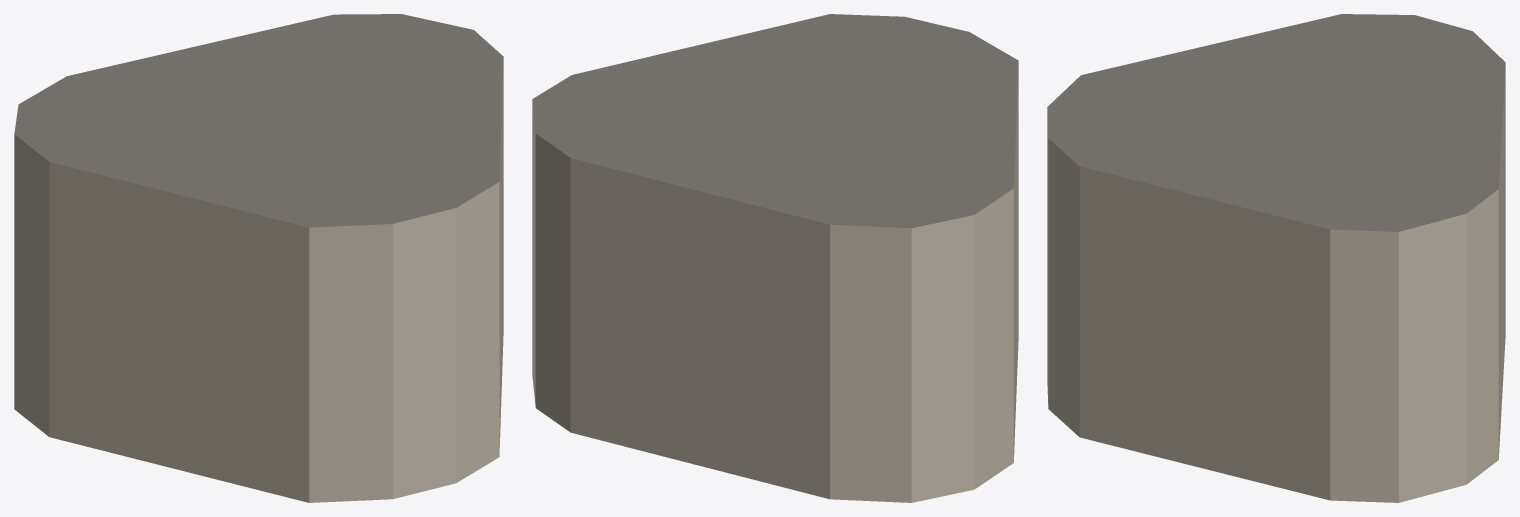
3 views of the same model, side by side, from view 1: azimuth 30°, elevation 25°; view 2: azimuth 150°, elevation 25°; view 3: azimuth 270°, elevation 25° (orthographic).
Visible parts, largest first — view 1: HP-w299010052; view 2: HP-w299010052; view 3: HP-w299010052.
Boxes of the visible parts, x1,y1,x2,y2 form: HP-w299010052: (14,14,503,502); HP-w299010052: (532,14,1018,502); HP-w299010052: (1047,14,1505,502).
Bounding box in the file's own units: 31.03 × 18 × 27.6.
